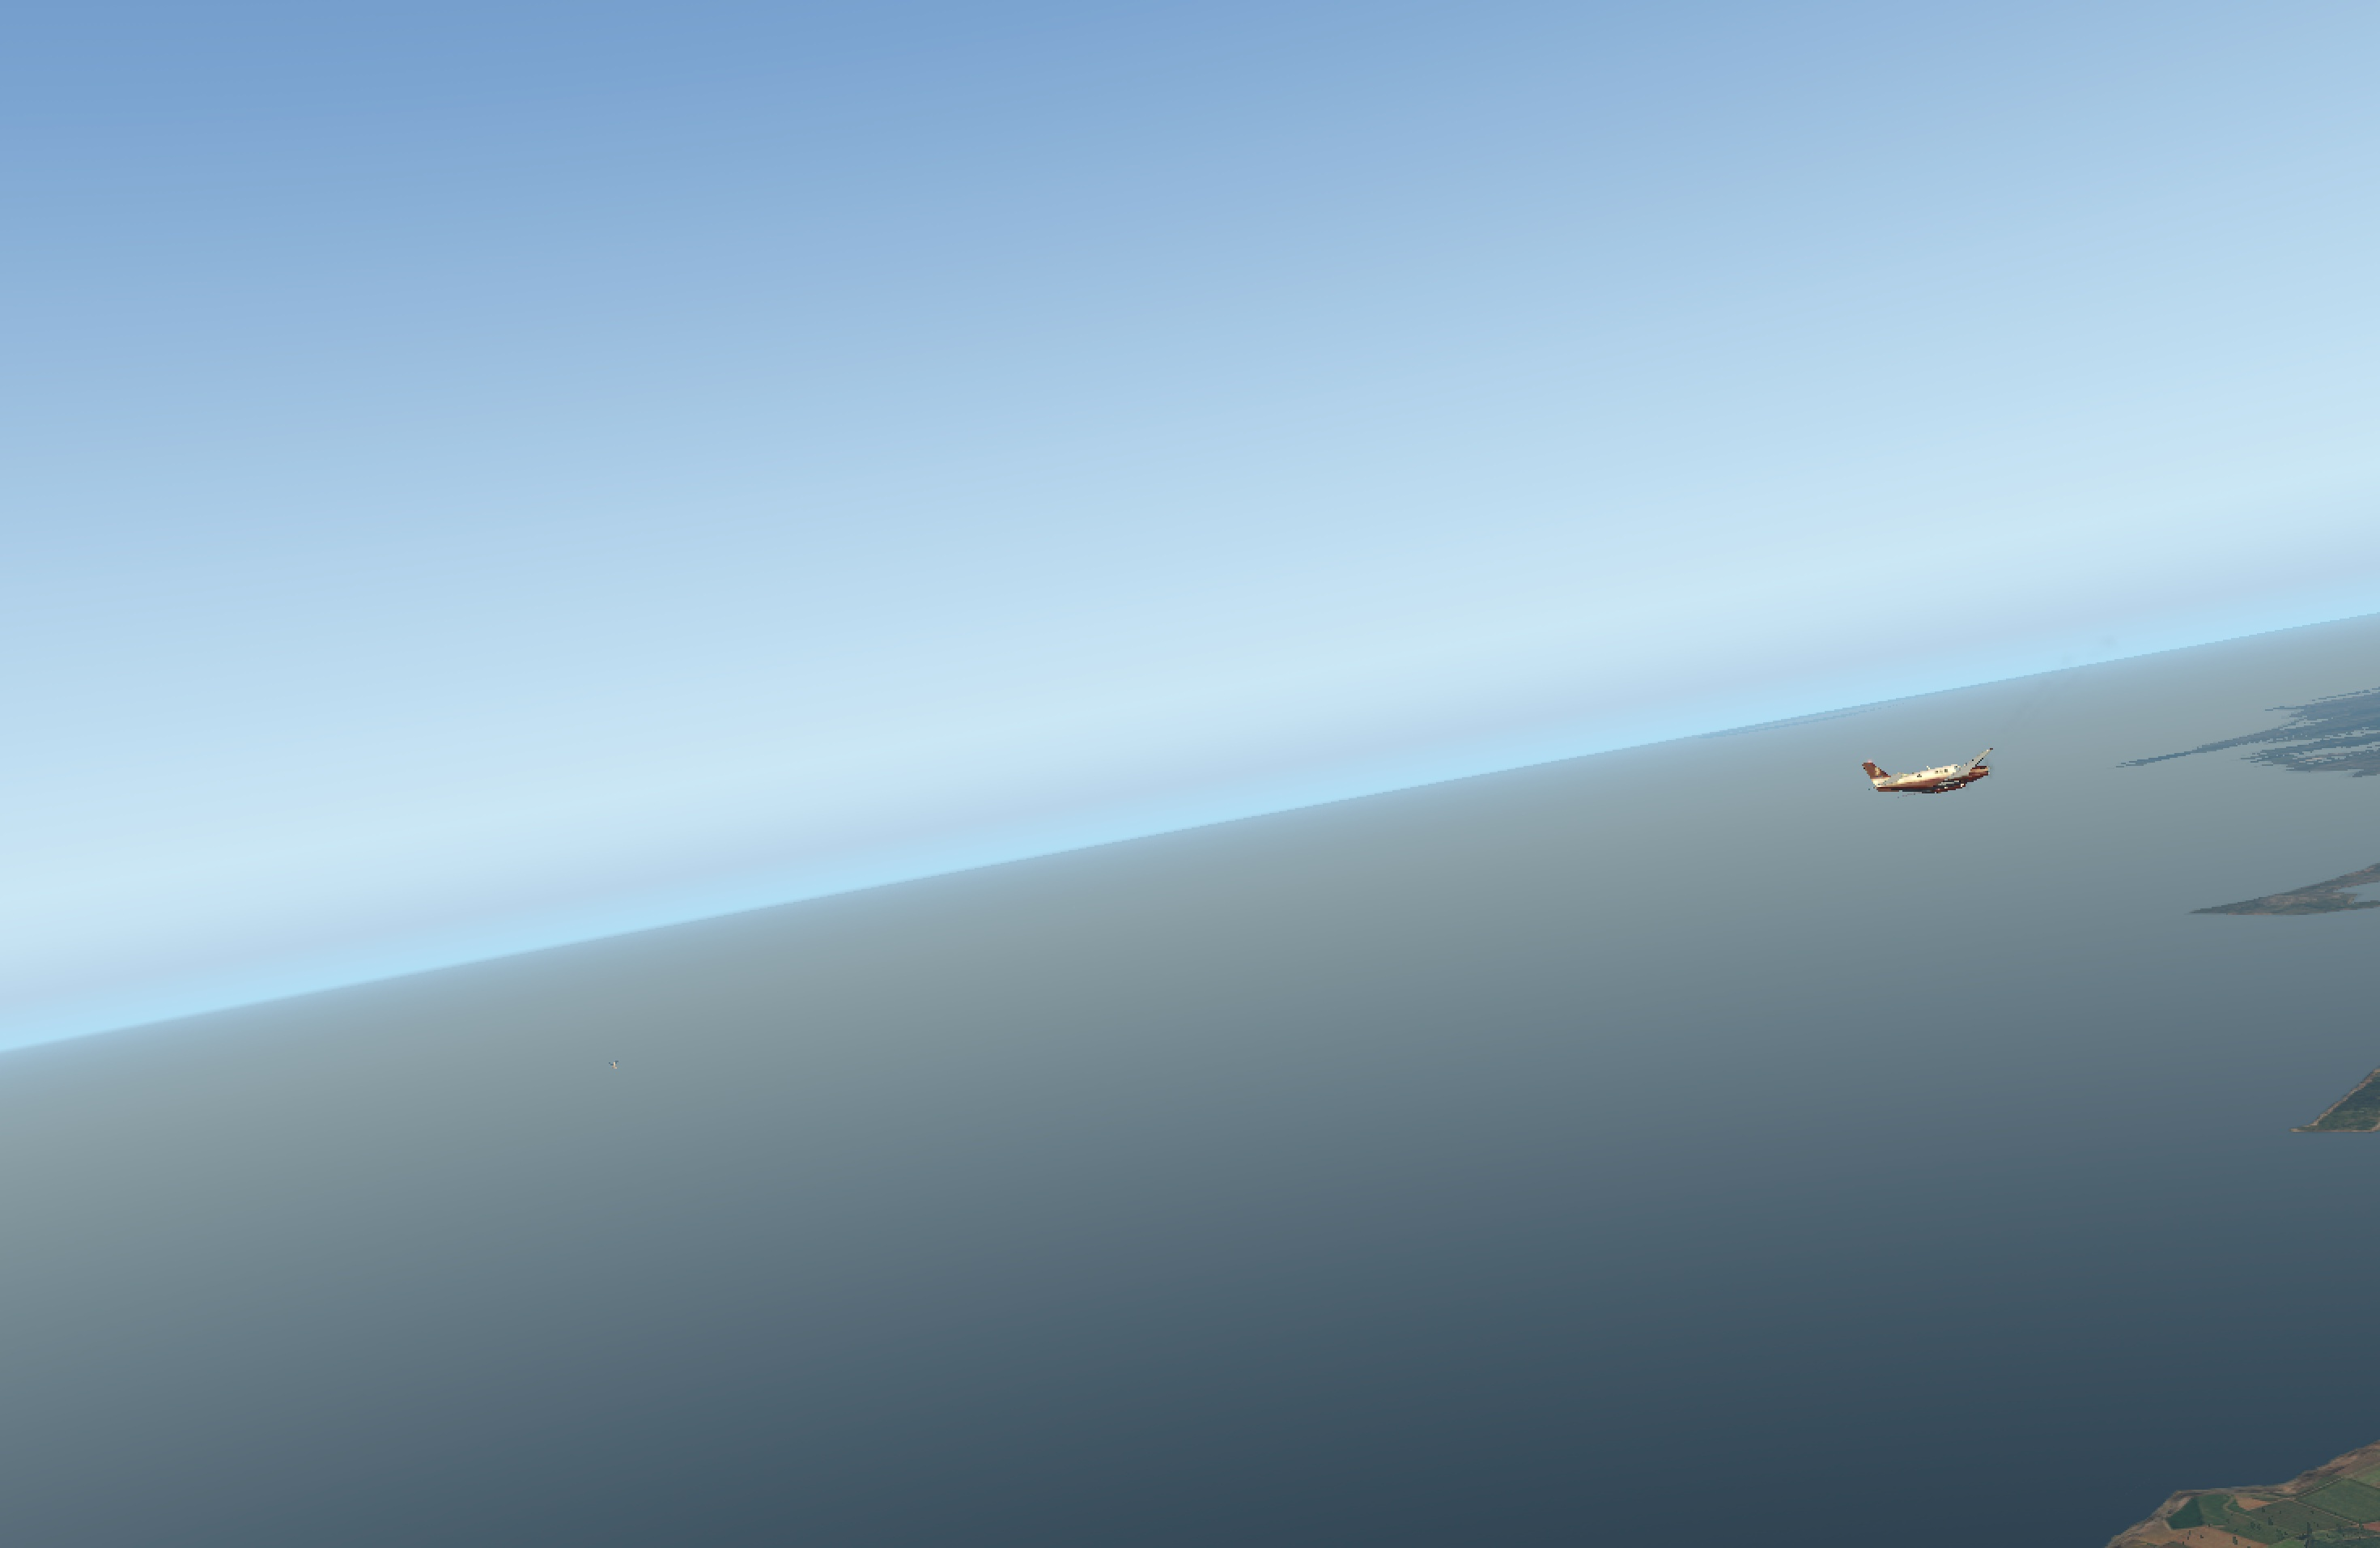aircraft: (1865, 751, 2037, 817)
